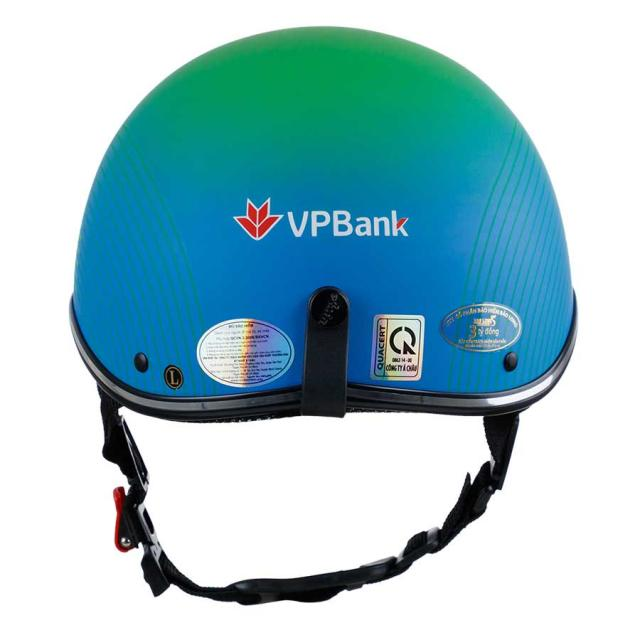Helmet: (52, 6, 576, 622)
